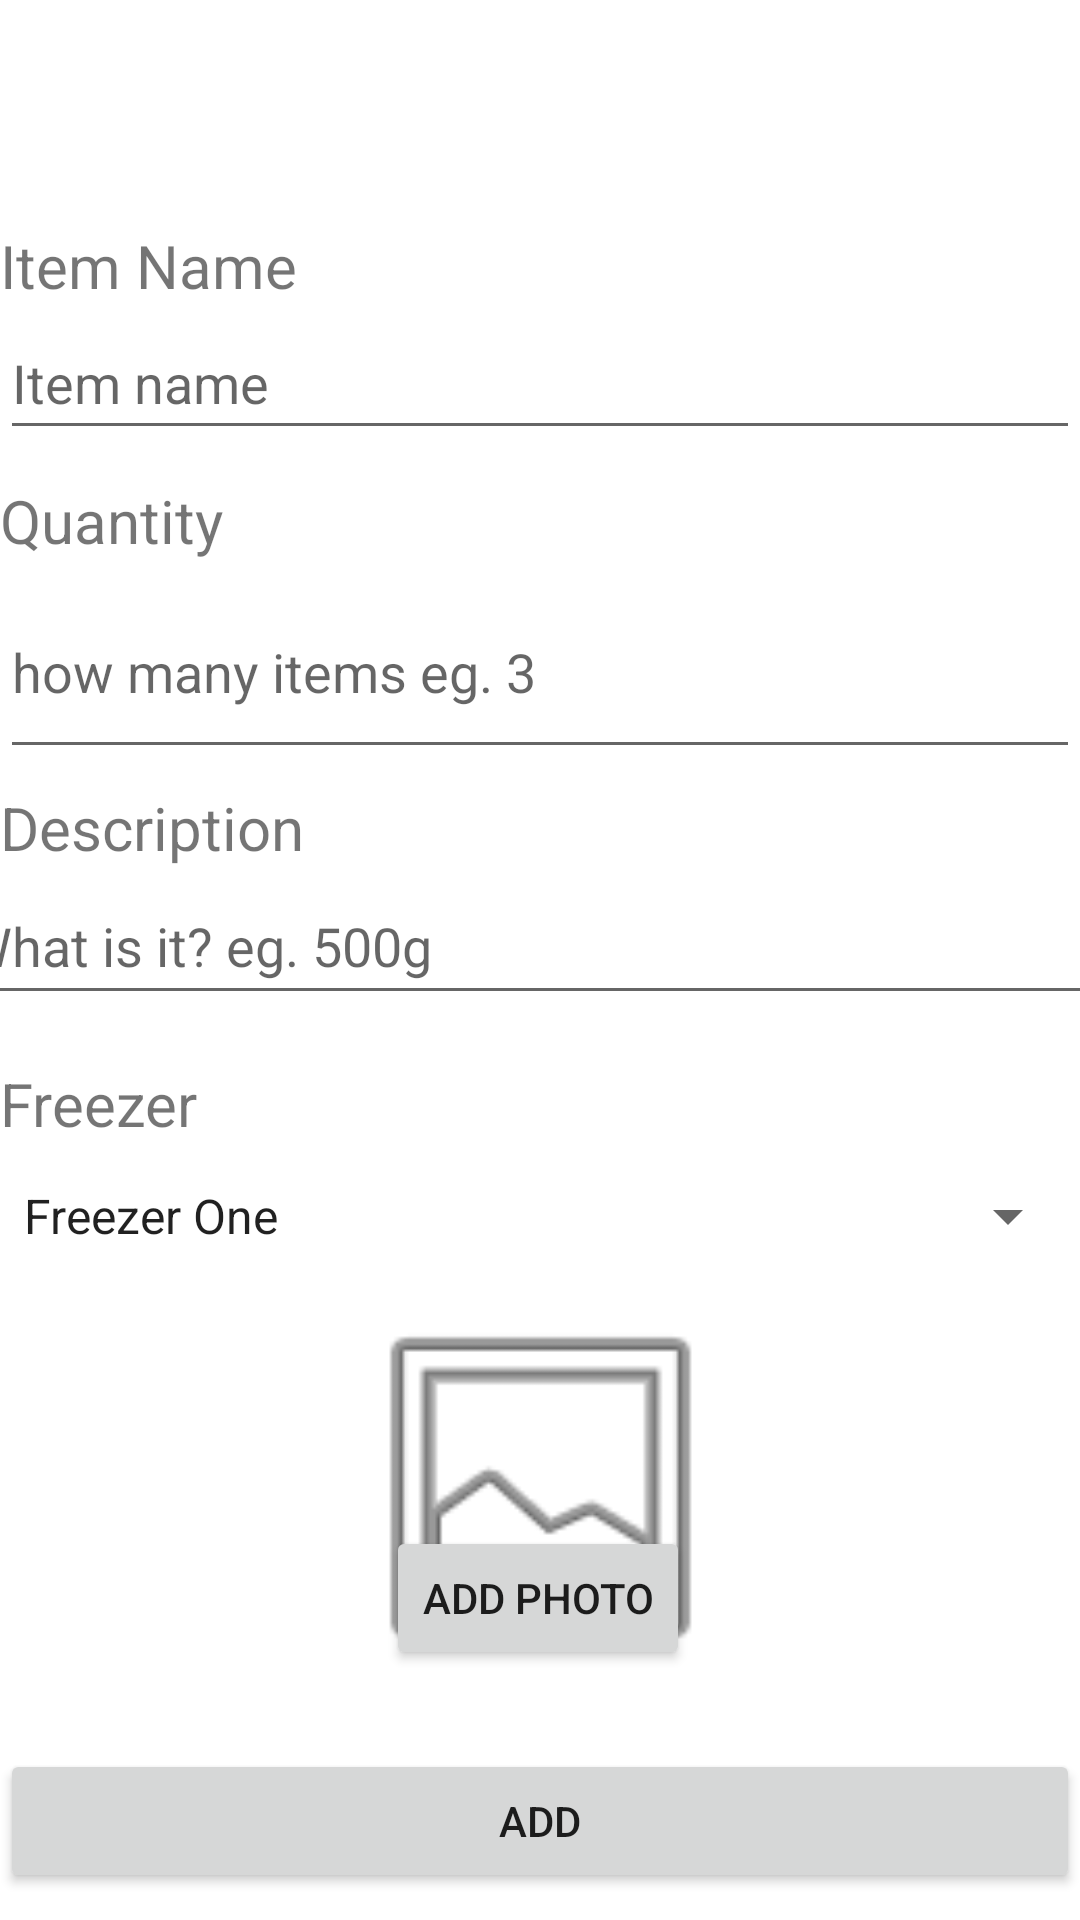

Screen size 1080px×1920px. Icon name, then its center in pixels as (x,y):
gallery: (540,1497)
